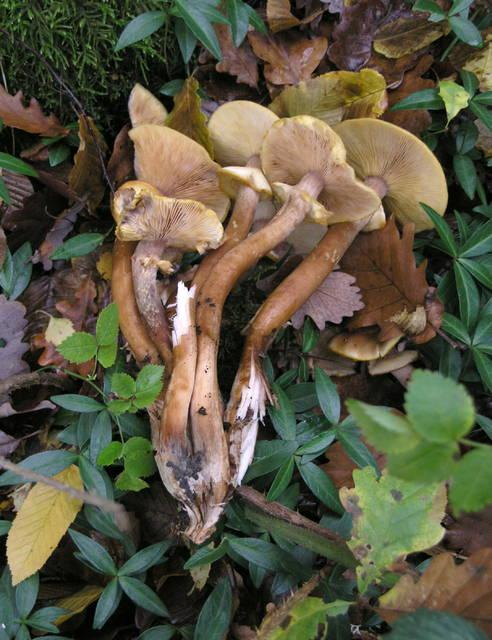edible_mushroom: (107, 81, 448, 544)
